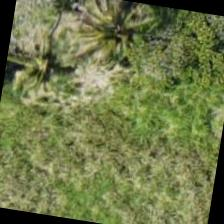Kelapa_Sawit: (0, 17, 91, 119), (67, 0, 169, 86)
